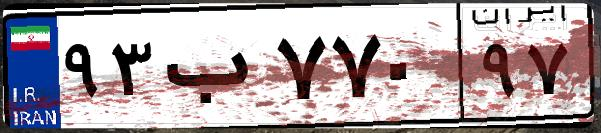0: (385, 28, 445, 110)
3: (110, 28, 158, 98)
7: (270, 28, 330, 110), (330, 28, 385, 110), (525, 38, 570, 115)
9: (57, 26, 110, 100), (475, 38, 525, 113)
ب: (158, 20, 270, 120)
